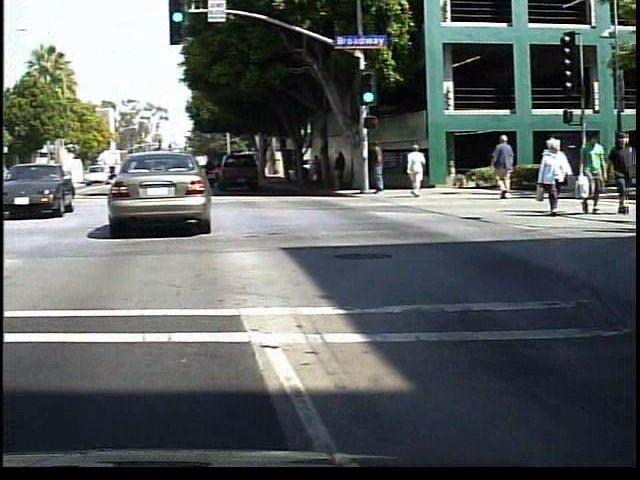person: (537, 137, 578, 217), (580, 132, 613, 215), (612, 128, 638, 214), (492, 136, 525, 201), (407, 141, 432, 199), (372, 137, 393, 200), (337, 146, 356, 191), (316, 151, 332, 190)
